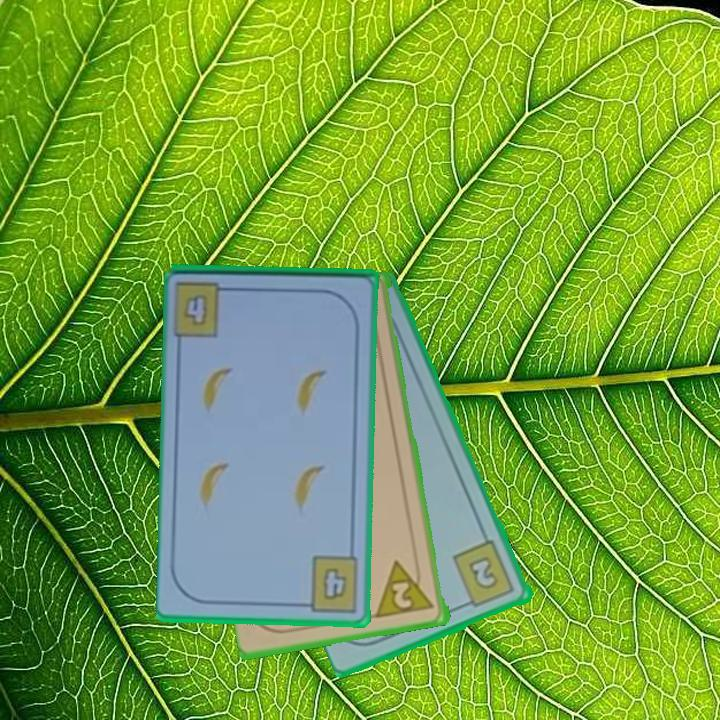2b: (449, 537, 518, 611)
2p: (374, 555, 439, 621)
4b: (297, 553, 362, 615), (180, 291, 212, 330)
